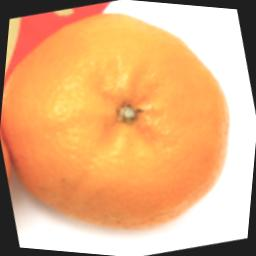Orange Ripe: (4, 3, 252, 243)
